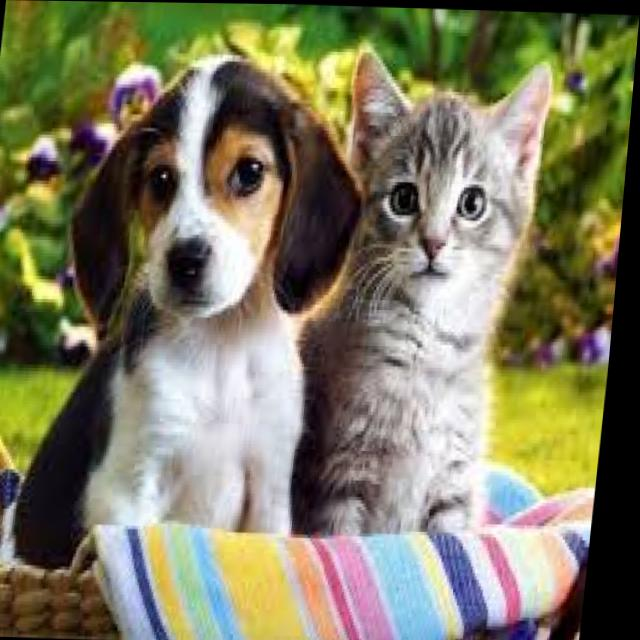Cat: (310, 41, 561, 532)
Dog: (39, 48, 337, 536)
